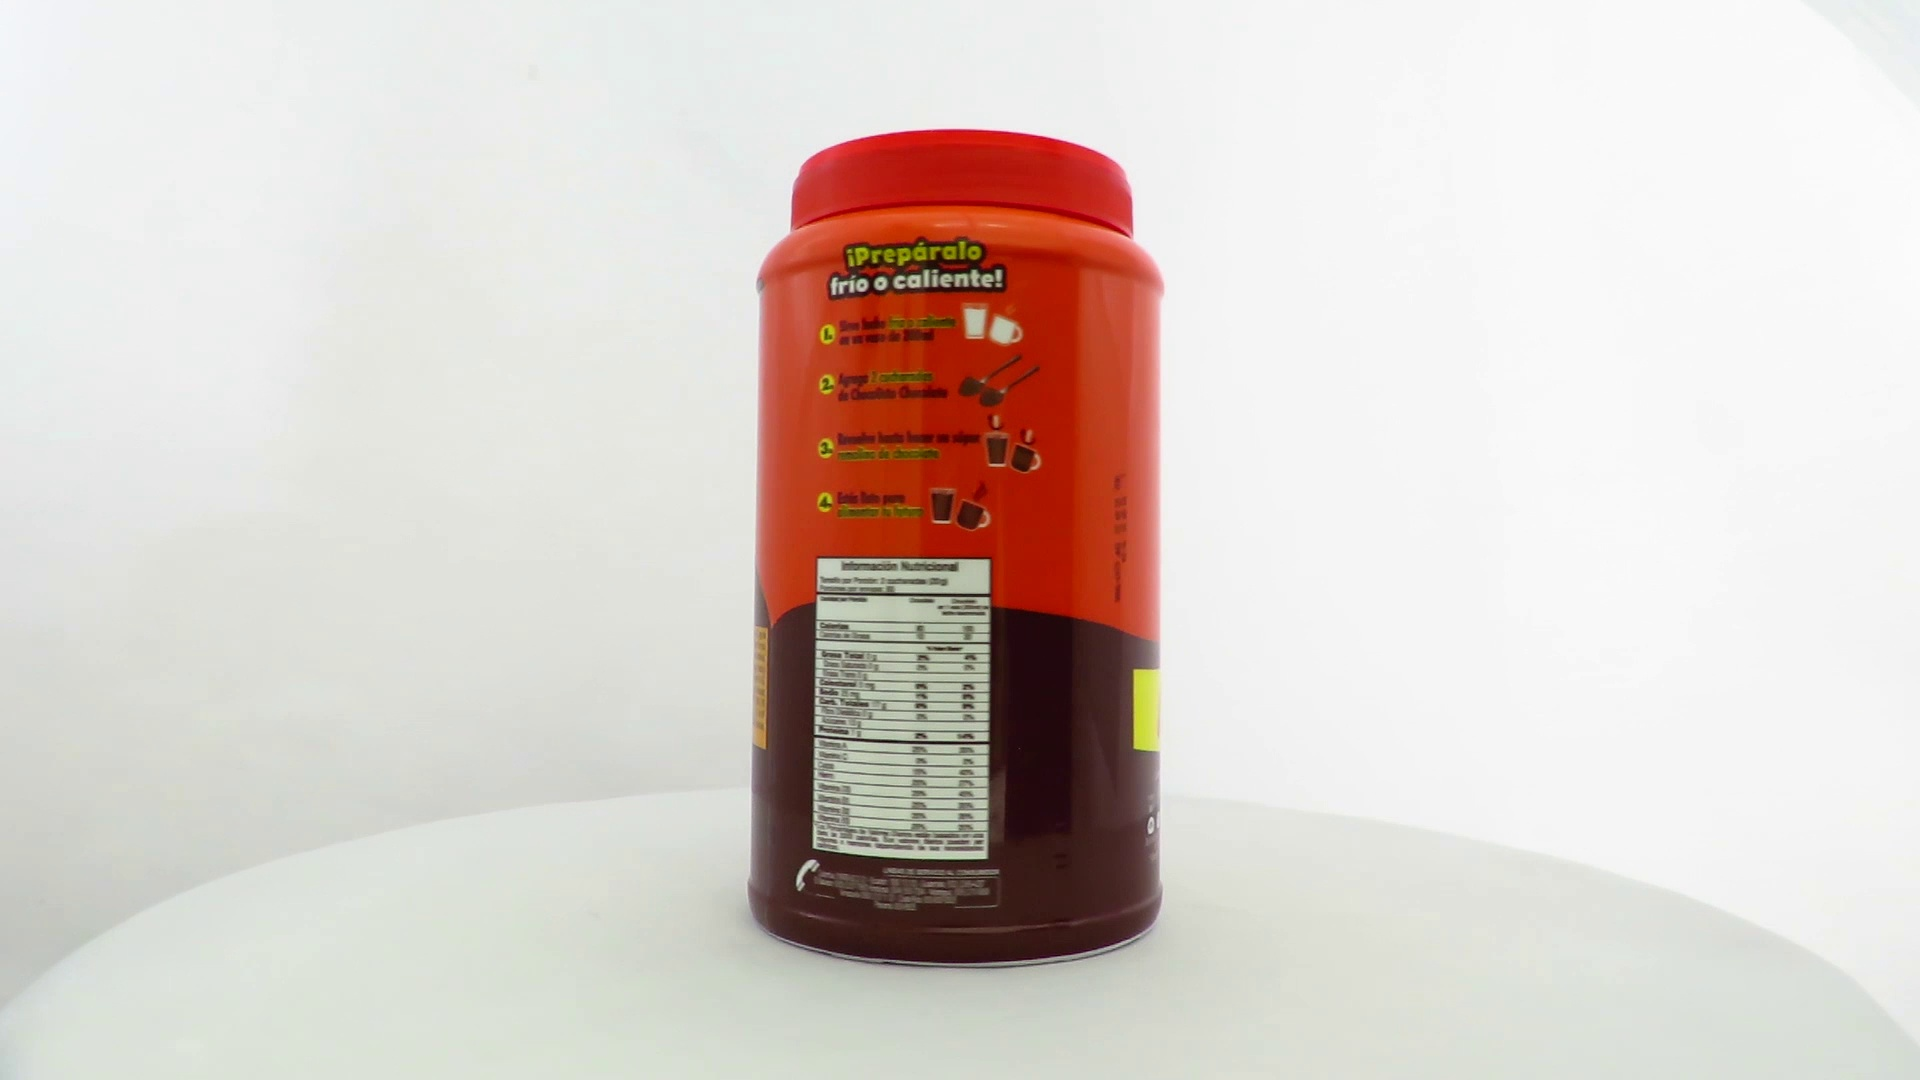COL0170103TRR00100: (742, 124, 1171, 975)
